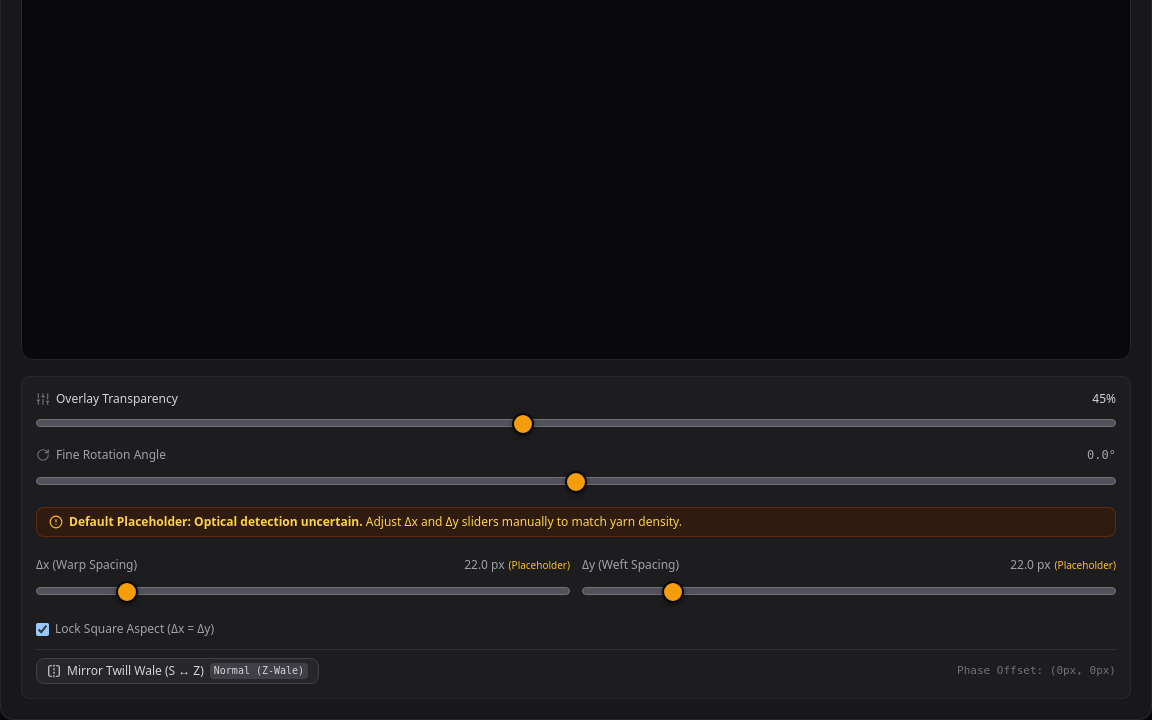
Test case: Issue #4: Canvas Overlay Fine Rotation Angle and Wale Mirroring › renders mirror twill wale toggle button and toggles state
The image size is (1152, 720).
(page scrolled)
Expected: the text "Normal (Z-Wale)" is shown, [210,663,308,679]
Toggle mirroring
Click the button "Mirror Twill Wale (S ↔ Z) Normal (Z-Wale)".
click(178, 671)  # box [36,658,319,684]
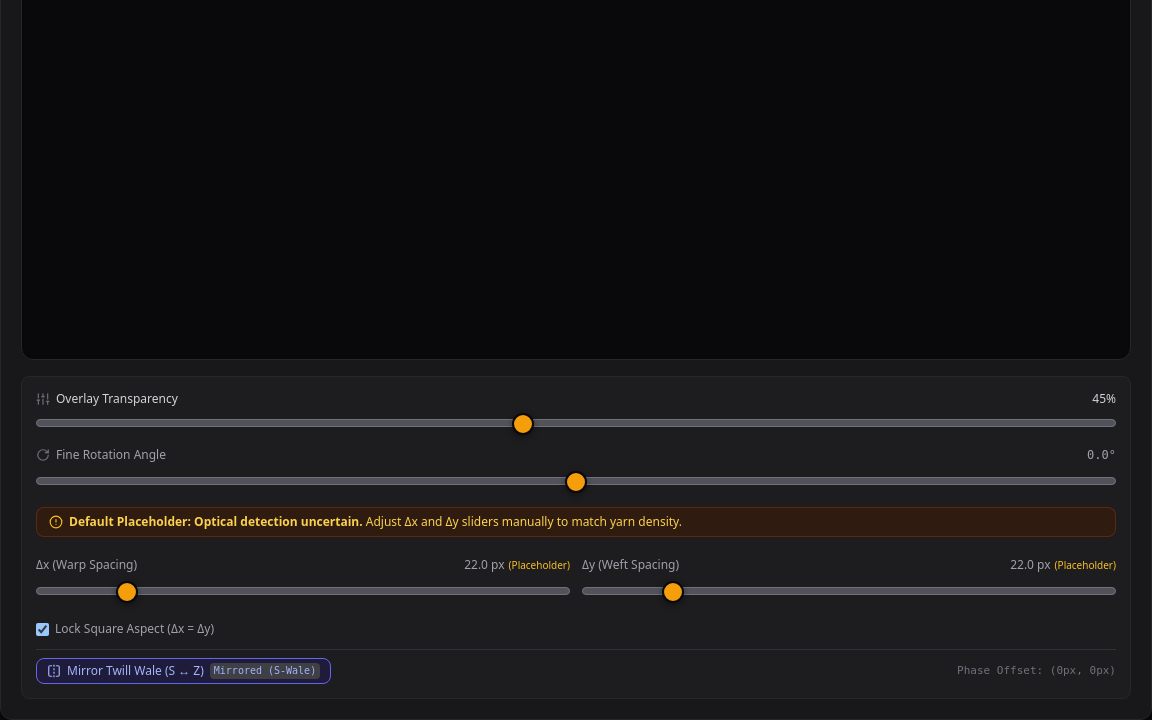
Now the text "Mirrored (S-Wale)" is shown, box [210,663,320,679]
Toggle back
Click the button "Mirror Twill Wale (S ↔ Z) Mirrored (S-Wale)".
click(184, 671)  # box [36,658,331,684]
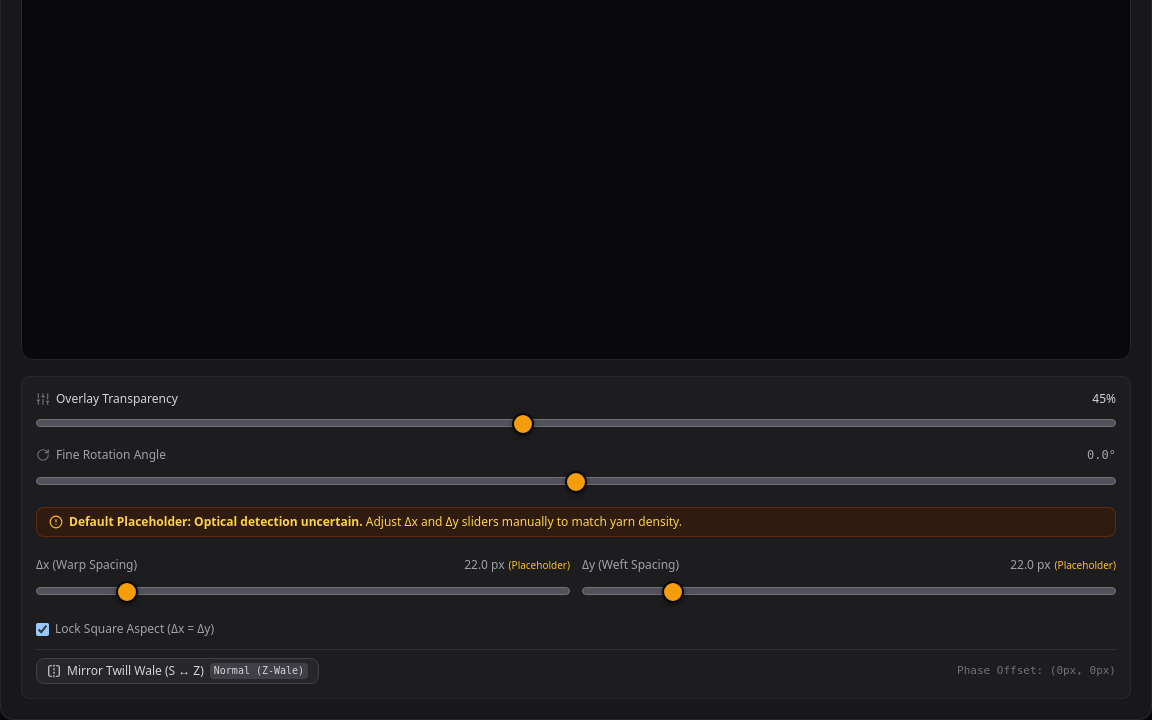
Now the text "Normal (Z-Wale)" is shown, box [210,663,308,679]
